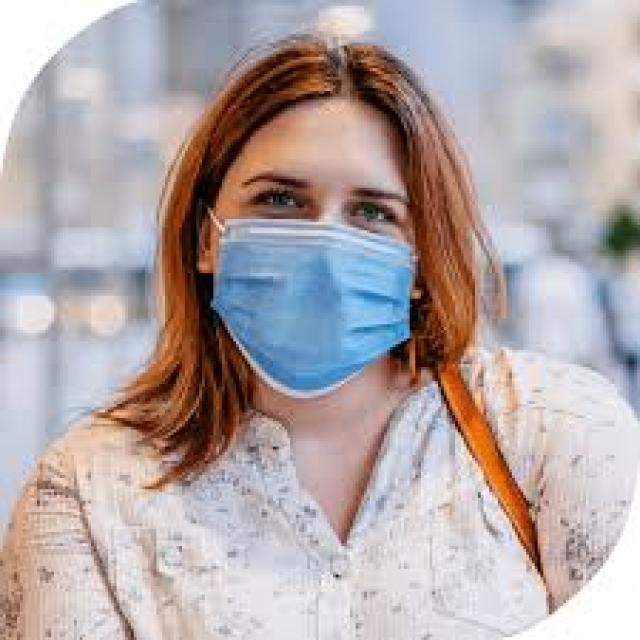1_mascarilla: (202, 205, 418, 398)
